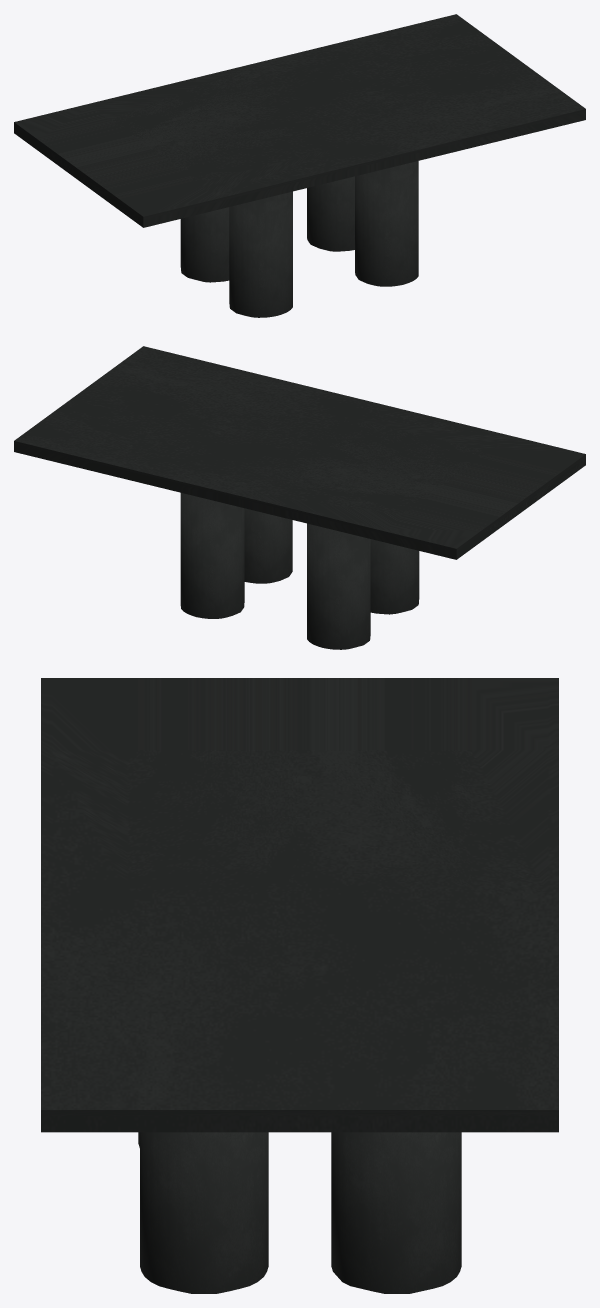
The model's file is darknight_recta_standard_grove.glb.
3 views of the same model, one above another, from view 1: azimuth 30°, elevation 25°; view 2: azimuth 150°, elevation 25°; view 3: azimuth 270°, elevation 25° (orthographic). The views are drawn at different scales.
Parts seen in each view (by area): view 1: darknight_rectastandard_grove; view 2: darknight_rectastandard_grove; view 3: darknight_rectastandard_grove.
Boxes of the visible parts, x1,y1,x2,y2 form: darknight_rectastandard_grove: (14, 14, 585, 317); darknight_rectastandard_grove: (14, 346, 585, 649); darknight_rectastandard_grove: (41, 678, 558, 1293).
Bounding box in the file's own units: 7.5 × 2.52 × 3.8.
1 material, 1 textured.
